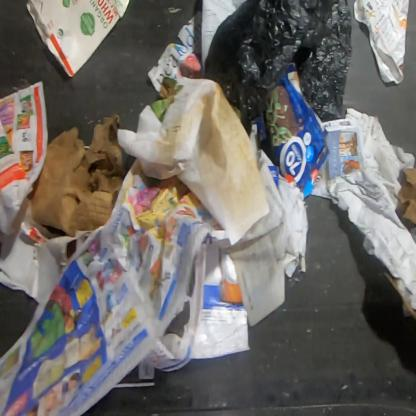cardboard: (26, 112, 128, 238), (251, 62, 330, 200), (25, 0, 130, 78), (395, 168, 416, 225)
soft_plastic: (204, 0, 353, 137)
